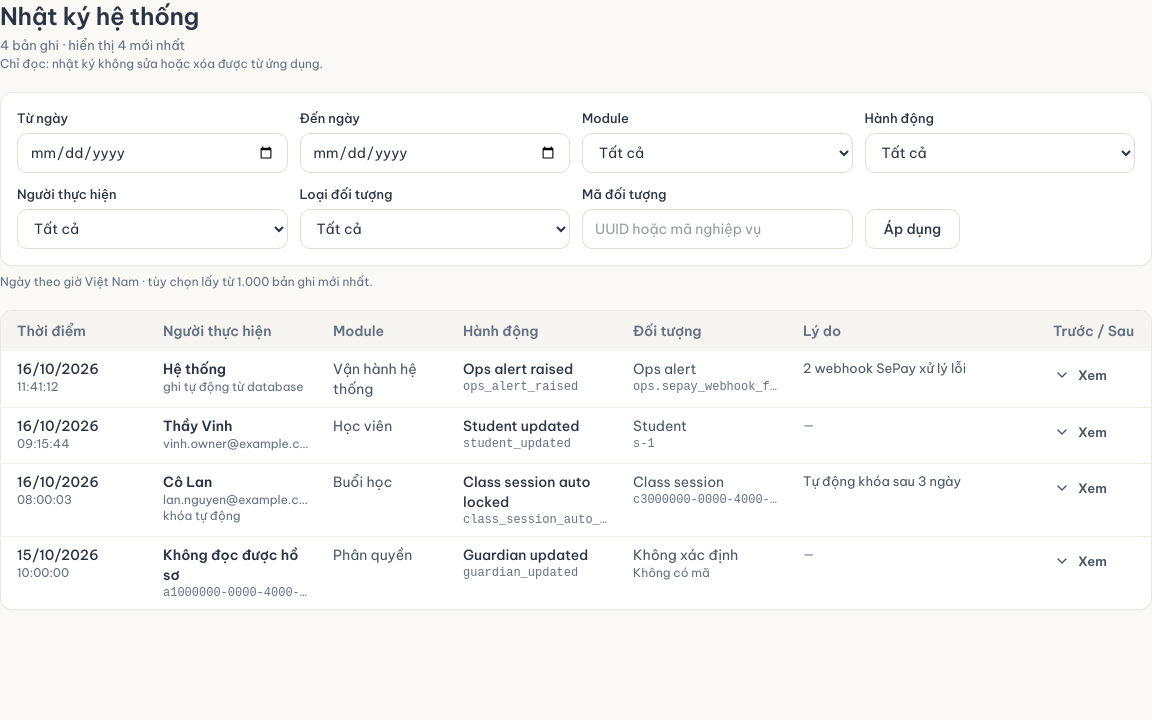
AuditLogPage table › says 'Không có dữ liệu' for a null side and shows non-empty metadata and the request id
The image size is (1152, 720).
What coordinates should you click on to do the following:
click the button with aria-label "của Ops alert raised"
I would click on:
 (1080, 375)
Its box is [1041,359,1120,391].
(page scrolled)
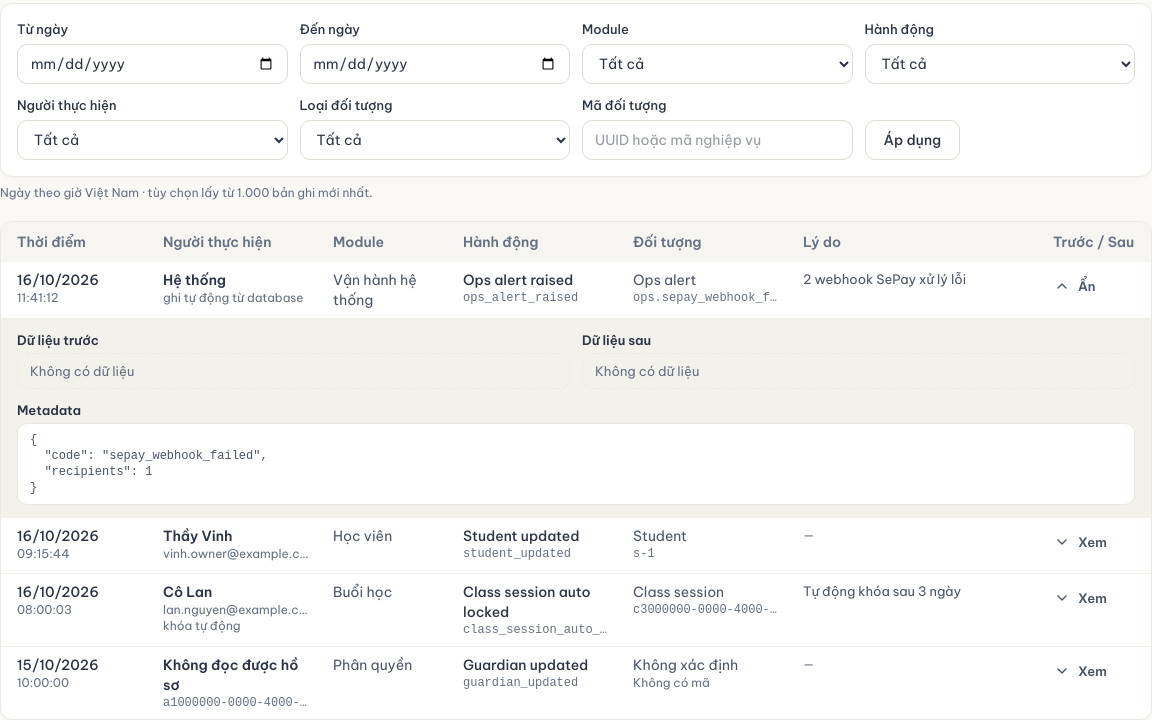
What coordinates should you click on to do the following:
click the button with aria-label "của Guardian updated"
I would click on:
 (1080, 671)
Its box is [1041,655,1120,687].
(page scrolled)
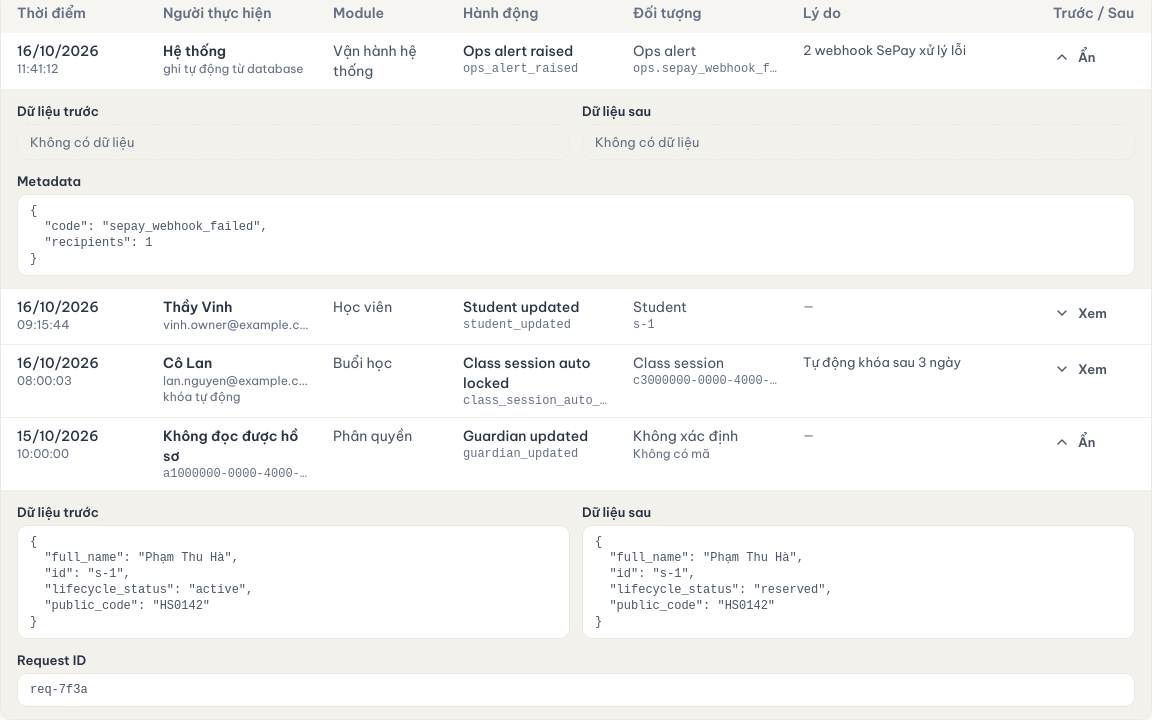
Check: the text "Không có dữ liệu" is shown 2 times, box [17,124,570,160]; [582,124,1135,160]
Check: the text "Metadata" is shown, box [17,173,81,189]
Check: the text "Request ID" is shown, box [17,652,86,668]
